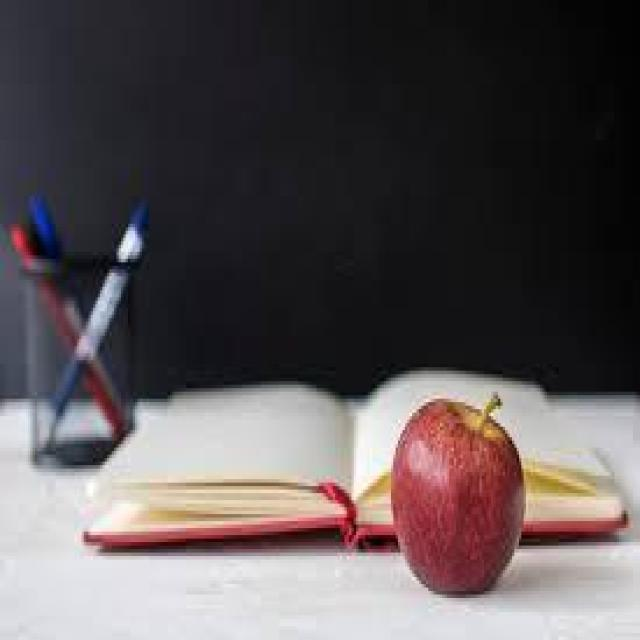maca: (388, 388, 524, 595)
